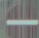No entry: (3, 1, 37, 37)
